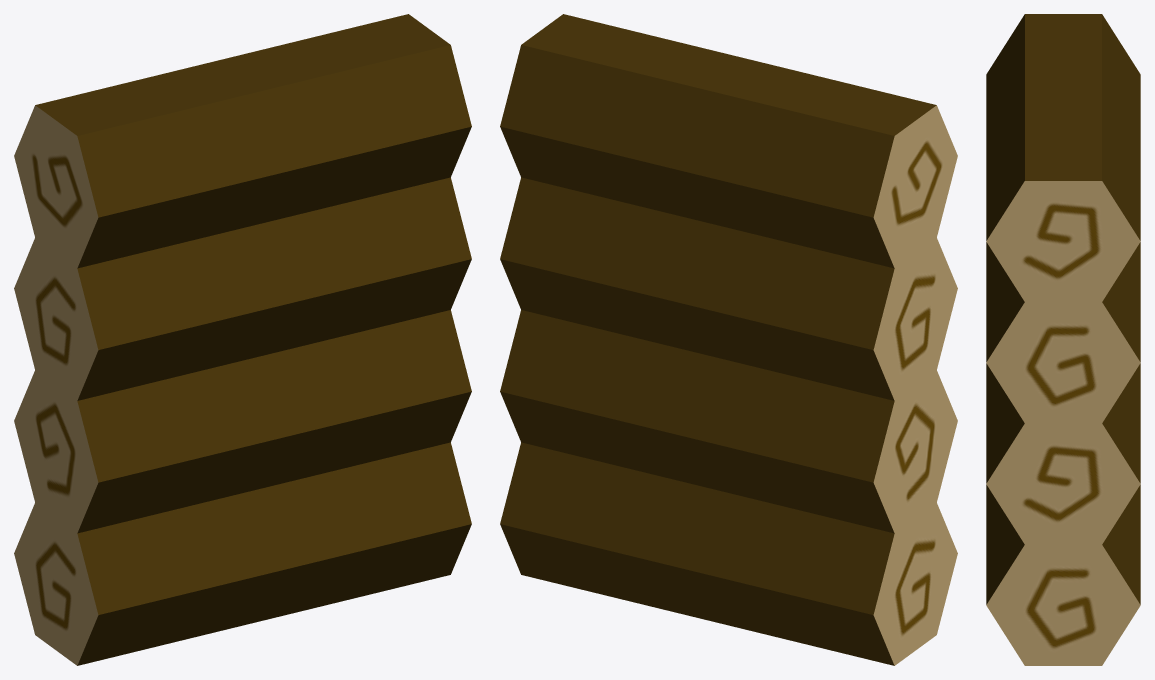
Rendered from Wall_2x4.fbx.
3 renders of one model, left to right at view 1: azimuth 30°, elevation 25°; view 2: azimuth 150°, elevation 25°; view 3: azimuth 270°, elevation 25°, orthographic. The views are drawn at different scales.
Parts seen in each view (by area): view 1: Wall_2x4; view 2: Wall_2x4; view 3: Wall_2x4.
Part boxes in pixels (x1,y1,x2,y2): Wall_2x4: (14, 14, 471, 665); Wall_2x4: (500, 14, 957, 665); Wall_2x4: (986, 14, 1140, 665).
Size of the model in its own units: 5.11 by 6.93 by 2.
